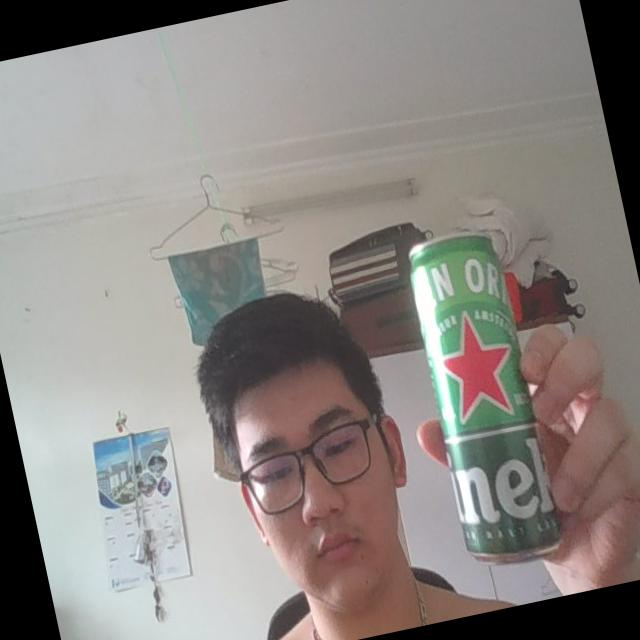Heineken: (399, 221, 573, 577)
